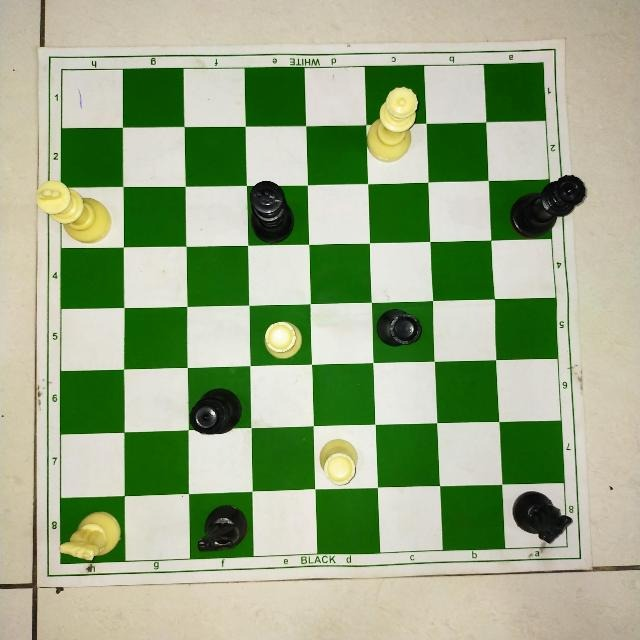black-king: (32, 181, 113, 245), (246, 180, 296, 244)
black-knight: (57, 506, 125, 566), (511, 488, 575, 545), (195, 504, 251, 554)
black-queen: (508, 172, 590, 240), (367, 87, 423, 167), (187, 386, 244, 436), (375, 304, 425, 352)
black-rook: (317, 433, 361, 485), (261, 320, 307, 360)
